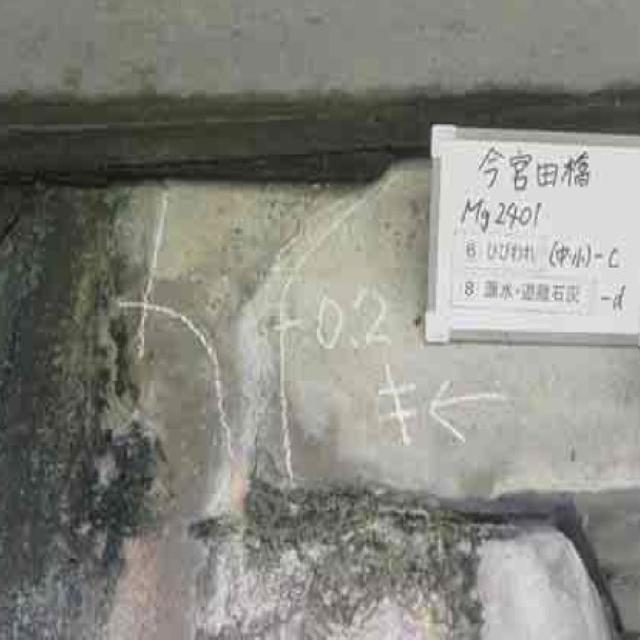freelime: (196, 247, 270, 617)
